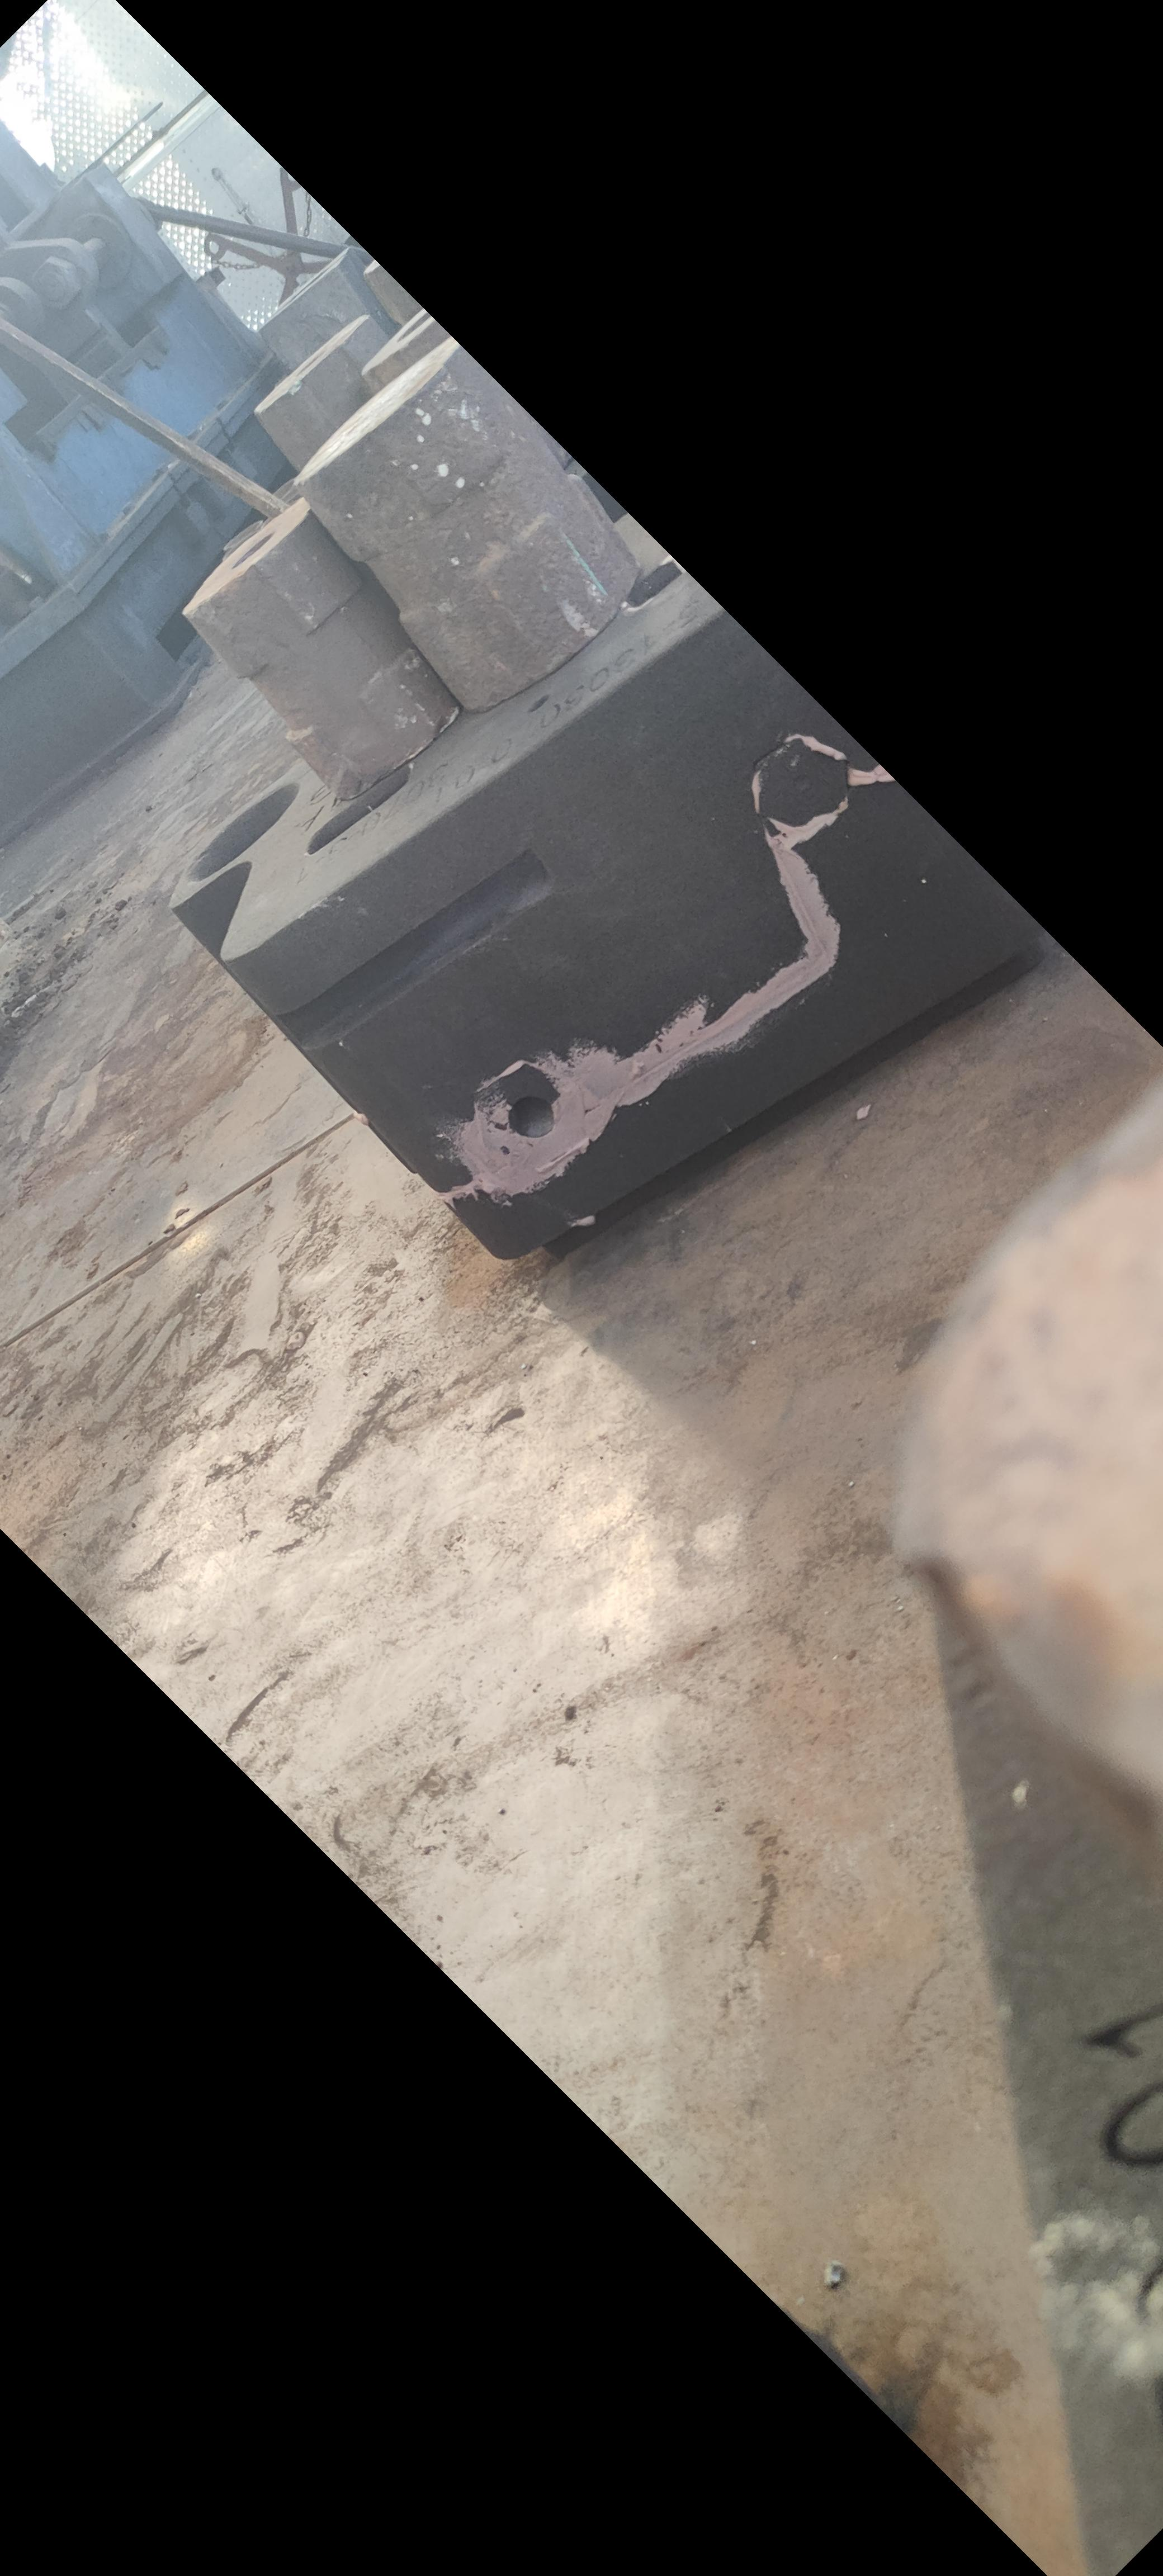pouring hole: (182, 780, 301, 882)
